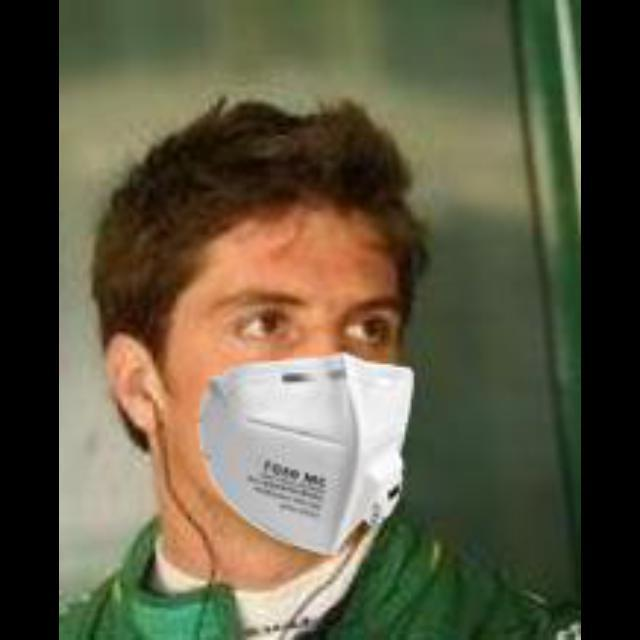suspicion: (122, 126, 430, 560)
